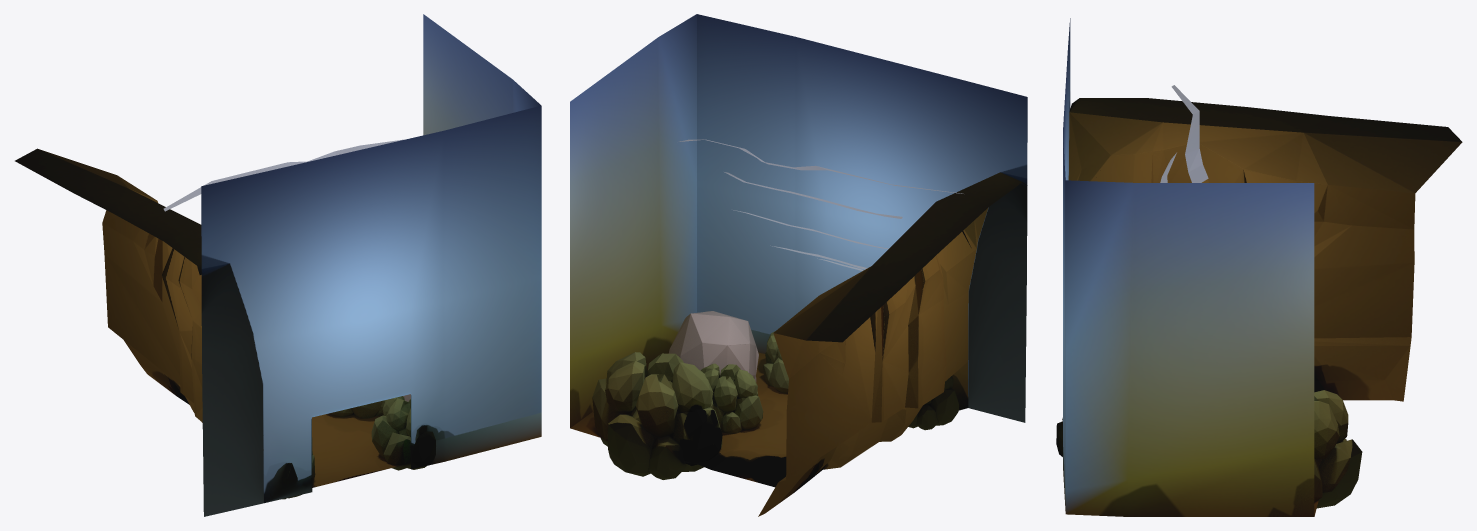
File: scene2end.glb
3 renders of one model, left to right at view 1: azimuth 30°, elevation 25°; view 2: azimuth 150°, elevation 25°; view 3: azimuth 270°, elevation 25°, orthographic. The views are drawn at different scales.
Size of the model in its own units: 10.87 by 10.81 by 11.02.
2 materials, 2 textured.
